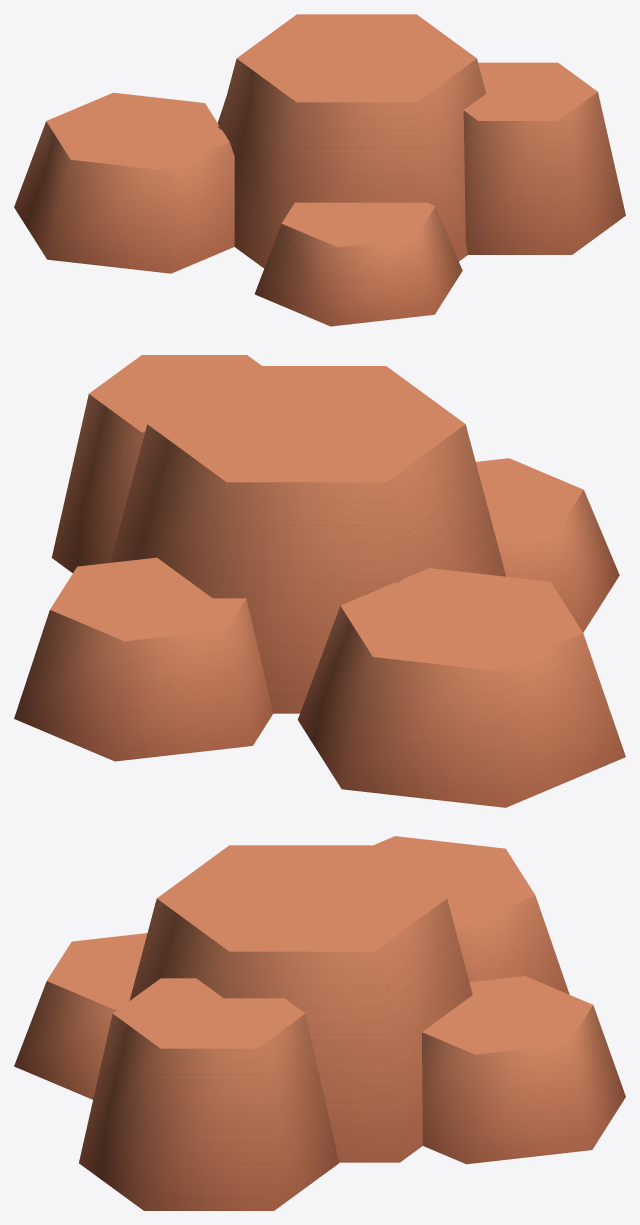
The model's file is prop_rocks.glb.
The picture shows the model from 3 angles, top to bottom: view 1: azimuth 30°, elevation 25°; view 2: azimuth 150°, elevation 25°; view 3: azimuth 270°, elevation 25°; orthographic projection. The views are drawn at different scales.
Visible parts, largest first — view 1: rocks; view 2: rocks; view 3: rocks.
Part boxes in pixels (box(x1,y1,x2,y2)): rocks: box(14, 14, 625, 326); rocks: box(14, 355, 625, 807); rocks: box(14, 836, 625, 1210).
Size of the model in its own units: 1.11 by 0.3526 by 1.02.
1 material, 1 textured.
